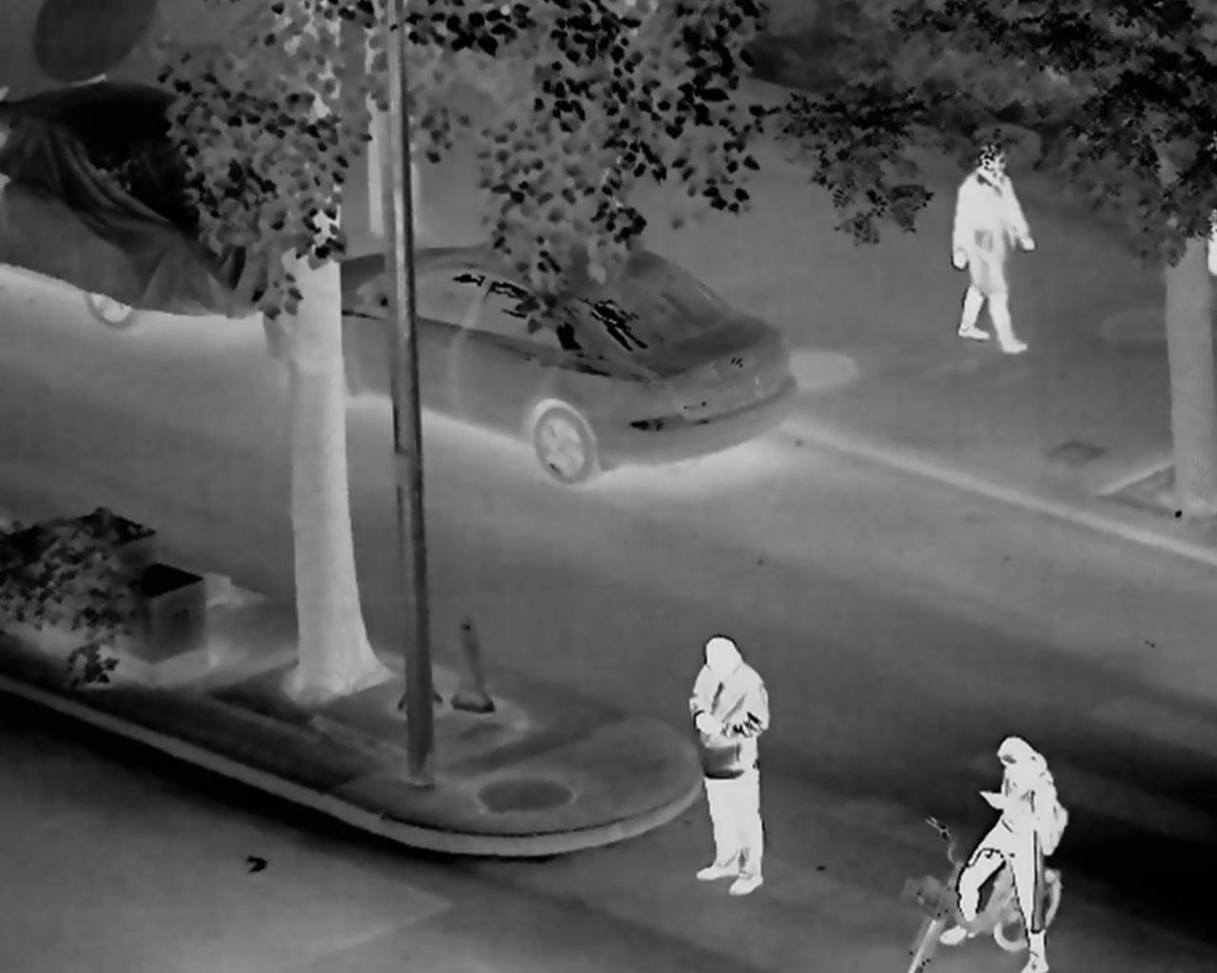person: (939, 735, 1063, 973), (686, 634, 770, 896), (950, 140, 1034, 353)
